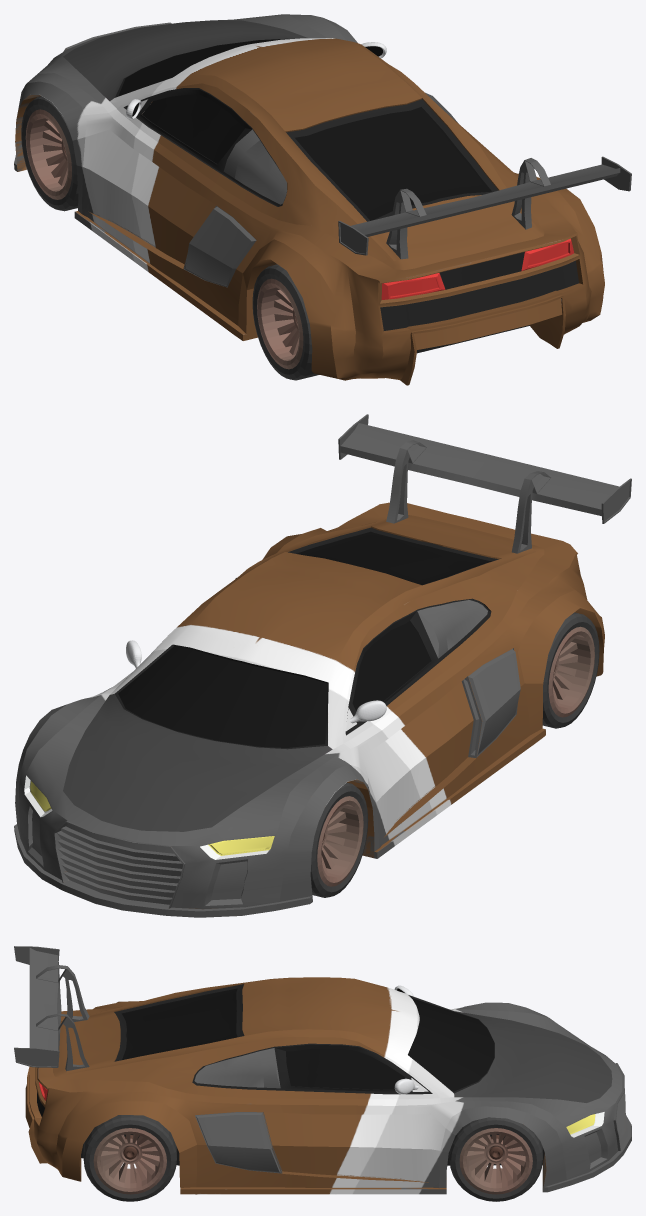
File: Aduo.fbx
3 views of the same model, one above another, from view 1: azimuth 30°, elevation 25°; view 2: azimuth 150°, elevation 25°; view 3: azimuth 270°, elevation 25° (orthographic). The views are drawn at different scales.
Visible parts, largest first — view 1: Aduo P8, Circle.011, Circle.004; view 2: Aduo P8, Circle.011, Circle.004; view 3: Aduo P8, Circle.001, Circle.006.
Boxes of the visible parts, box(x1,y1,x2,y2) form: Aduo P8: box(14, 14, 631, 385); Circle.011: box(252, 264, 319, 380); Circle.004: box(21, 96, 78, 211); Aduo P8: box(14, 414, 631, 917); Circle.011: box(542, 612, 599, 728); Circle.004: box(310, 782, 368, 897); Aduo P8: box(14, 946, 631, 1194); Circle.001: box(83, 1115, 176, 1201); Circle.006: box(449, 1117, 542, 1201).
Bounding box in the file's own units: 167 × 105 × 374.
4 materials, 3 textured.
